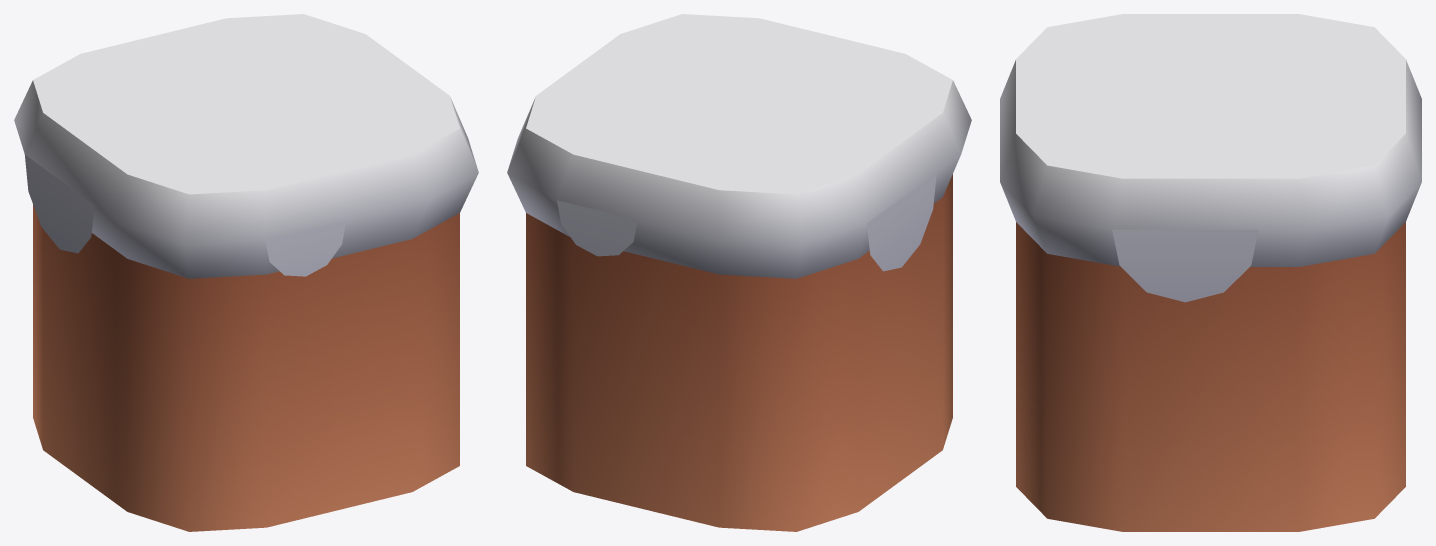
File: block-snow-overhang-corner.glb
3 views of the same model, side by side, from view 1: azimuth 30°, elevation 25°; view 2: azimuth 150°, elevation 25°; view 3: azimuth 270°, elevation 25° (orthographic). The views are drawn at different scales.
Parts seen in each view (by area): view 1: block-snow-overhang-corner; view 2: block-snow-overhang-corner; view 3: block-snow-overhang-corner.
Part boxes in pixels (x1=…): block-snow-overhang-corner: x1=14, y1=14, x2=478, y2=531; block-snow-overhang-corner: x1=507, y1=14, x2=971, y2=531; block-snow-overhang-corner: x1=1000, y1=14, x2=1421, y2=531.
Bounding box in the file's own units: 1.08 × 1 × 1.08.
1 material, 1 textured.
